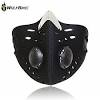cloth_mask: (6, 13, 94, 87)
